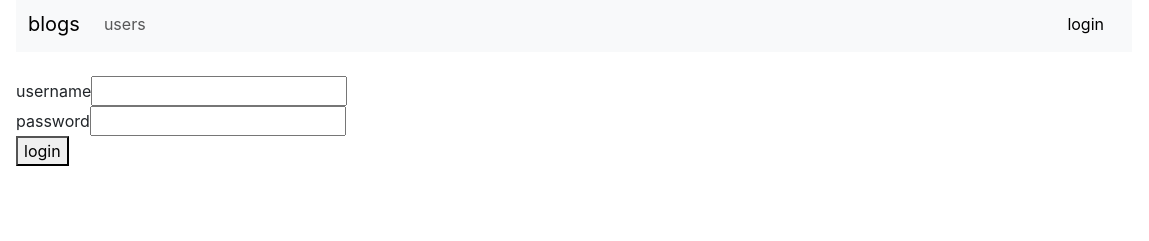
Test: Blog app › Login › fails with wrong credentials
The width and height of the screenshot is (1149, 241).
Type "testdude" into the field with id "username".
click(219, 91); type("testdude")  # box top-left (91, 76), bottom-right (347, 106)
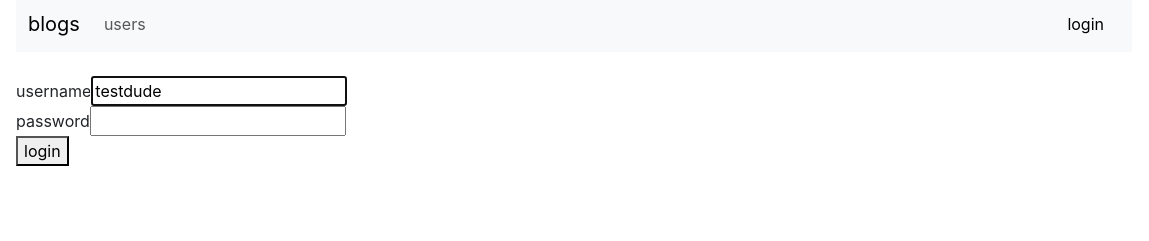
Type "wrongpassword" into the password field.
click(218, 121); type("wrongpassword")  # box top-left (90, 106), bottom-right (346, 136)
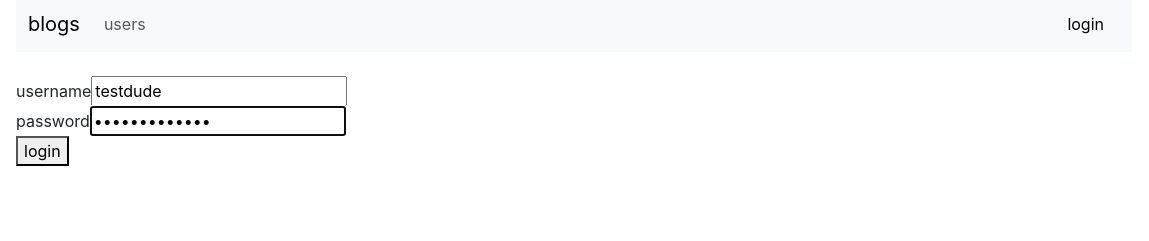
Click the button with id "login-button".
click(43, 151)  # box top-left (16, 136), bottom-right (69, 166)
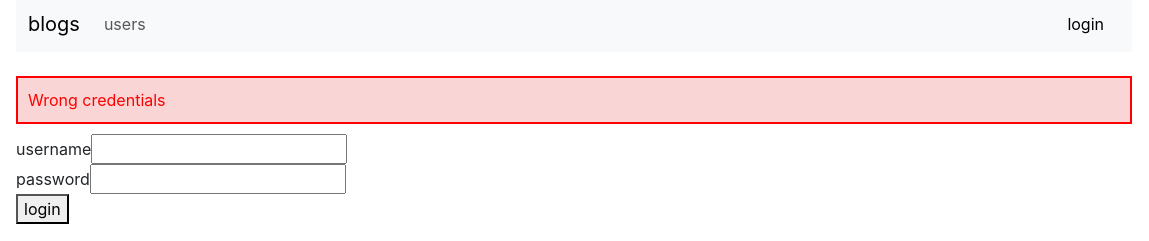
Expected: the text with class "error" reads "Wrong credentials", top-left (28, 90), bottom-right (166, 110)
